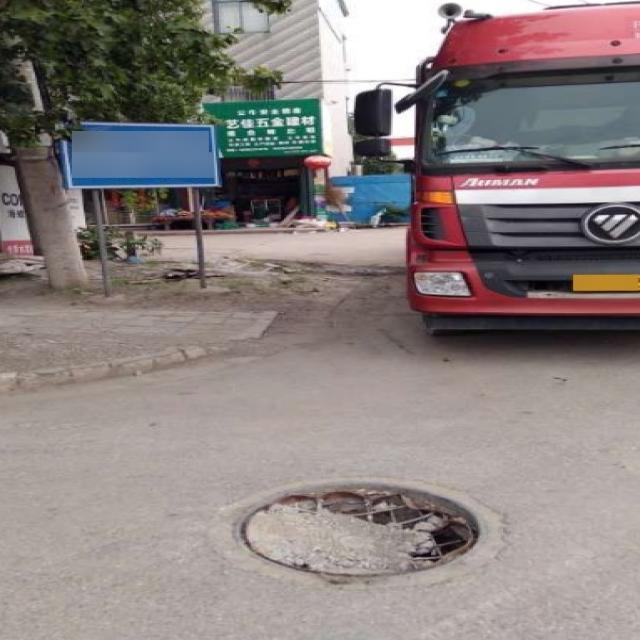Faulty: (222, 475, 515, 578)
